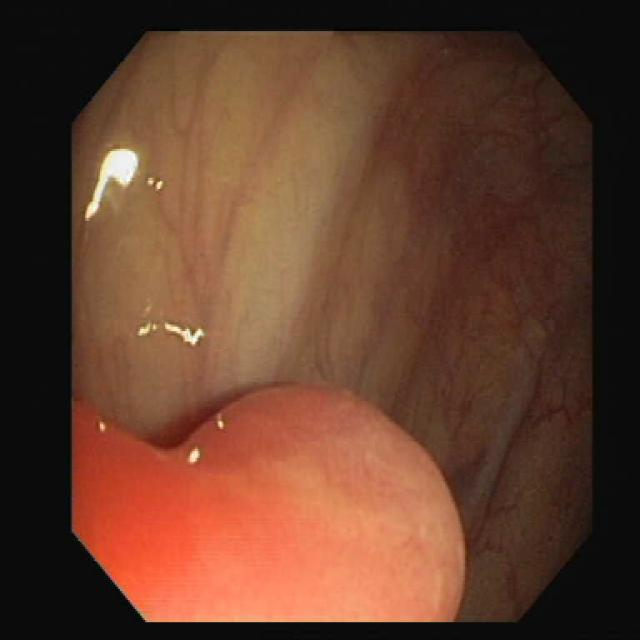tumor: (72, 384, 463, 620)
